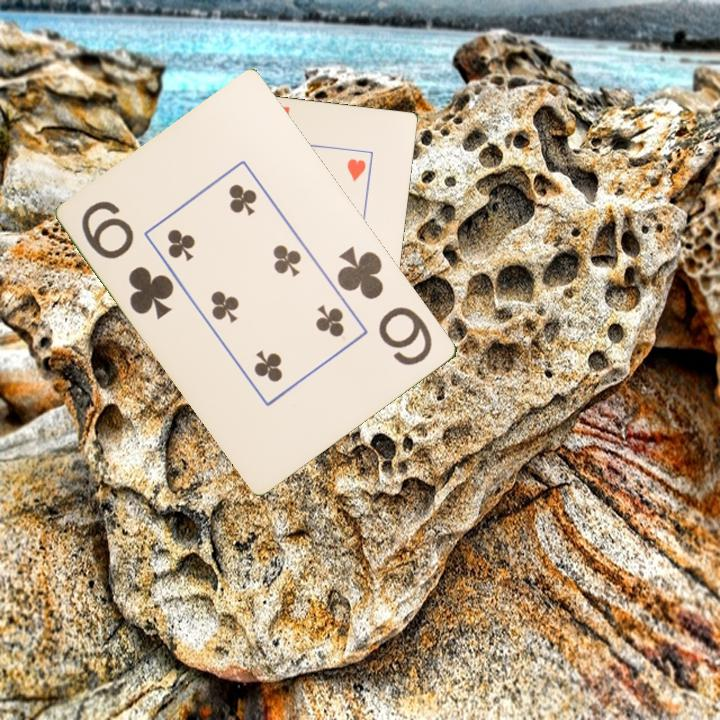6c: (333, 242, 436, 369), (78, 197, 178, 323)
